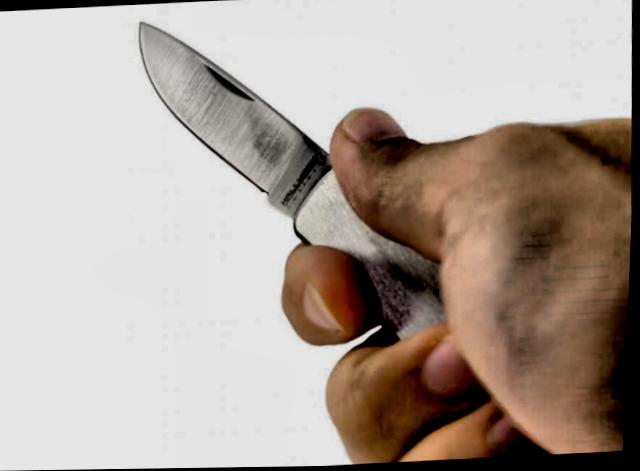knife: (115, 0, 477, 374)
